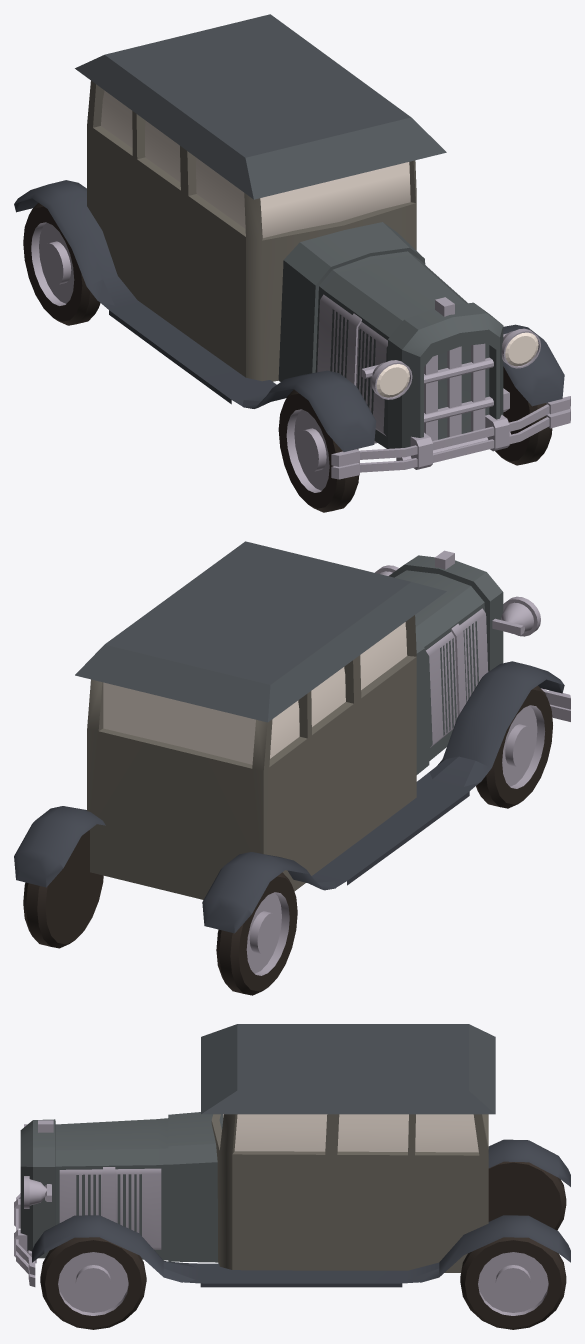
The model's file is exterior_car.fbx.
The picture shows the model from 3 angles, top to bottom: view 1: azimuth 30°, elevation 25°; view 2: azimuth 150°, elevation 25°; view 3: azimuth 270°, elevation 25°; orthographic projection. The views are drawn at different scales.
Parts seen in each view (by area): view 1: car; view 2: car; view 3: car.
Part boxes in pixels (bbox=[...]): car: bbox=[14, 14, 570, 512]; car: bbox=[14, 541, 570, 995]; car: bbox=[14, 1024, 570, 1329].
Size of the model in its own units: 176 by 198 by 431.
1 material, 1 textured.
